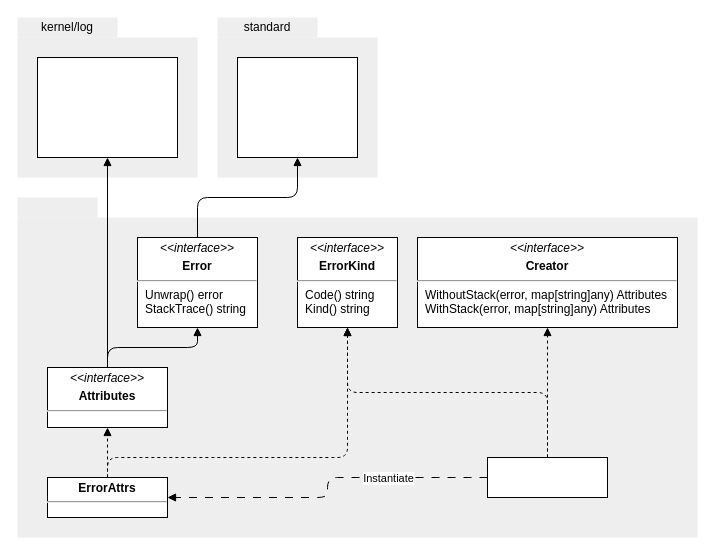
Some shapes in this 714 by 554 pixel diagram are drawn without their labels. The box of each missing label's shape, as (x1, y1, x2, y2) in pixels:
<<interface>> Attributes Name() string Map() map[string]any KeyValues() []any: (36, 56, 178, 158)
<<interface>> error Error() string: (236, 56, 358, 158)
kernel/errorutil: (17, 197, 97, 217)
Kind: (486, 456, 608, 498)
